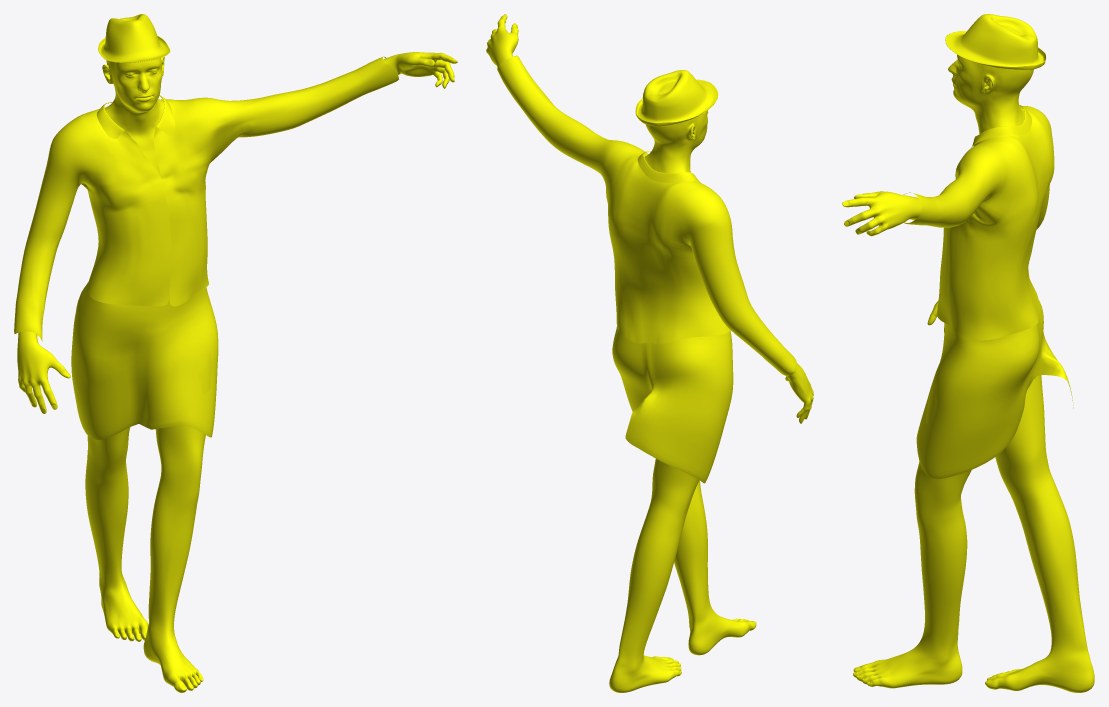
Rendered from testhom.glb.
3 views of the same model, side by side, from view 1: azimuth 30°, elevation 25°; view 2: azimuth 150°, elevation 25°; view 3: azimuth 270°, elevation 25° (orthographic). The views are drawn at different scales.
Parts seen in each view (by area): view 1: female_elegantsuit01.objMesh, base.objMesh, fedora.objMesh; view 2: female_elegantsuit01.objMesh, base.objMesh, fedora.objMesh; view 3: female_elegantsuit01.objMesh, base.objMesh, fedora.objMesh.
Part boxes in pixels (<box>): female_elegantsuit01.objMesh: <box>14,56,398,439</box>; base.objMesh: <box>17,52,457,692</box>; fedora.objMesh: <box>98,14,170,62</box>; female_elegantsuit01.objMesh: <box>497,55,796,483</box>; base.objMesh: <box>486,14,813,692</box>; fedora.objMesh: <box>635,70,718,126</box>; female_elegantsuit01.objMesh: <box>903,104,1073,478</box>; base.objMesh: <box>842,54,1094,692</box>; fedora.objMesh: <box>945,14,1046,69</box>.
Bounding box in the file's own units: 1.47 × 2.29 × 0.7844.
Materials: 4 (4 with a texture image).
